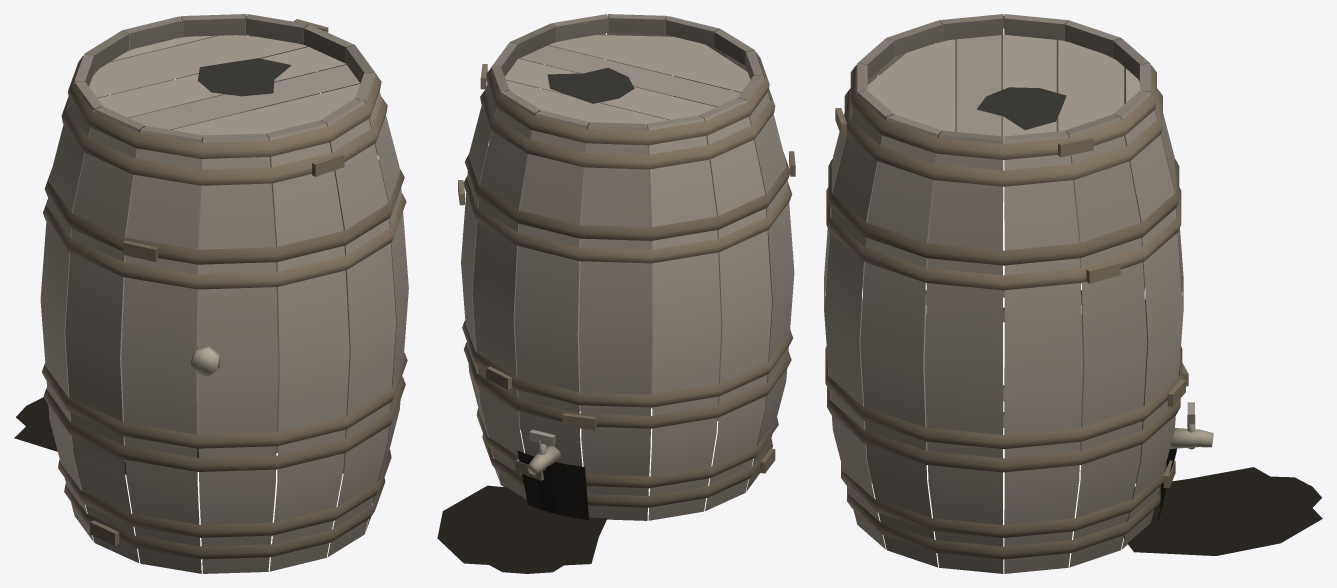
File: prop_barrel_tapped.glb
3 views of the same model, side by side, from view 1: azimuth 30°, elevation 25°; view 2: azimuth 150°, elevation 25°; view 3: azimuth 270°, elevation 25° (orthographic). The views are drawn at different scales.
Parts seen in each view (by area): view 1: BarrelTappedSoft, BarrelTapped; view 2: BarrelTappedSoft, BarrelTapped; view 3: BarrelTappedSoft, BarrelTapped.
Boxes of the visible parts, x1=… form: BarrelTappedSoft: x1=40, y1=14, x2=408, y2=573; BarrelTapped: x1=14, y1=14, x2=374, y2=545; BarrelTappedSoft: x1=461, y1=15, x2=794, y2=520; BarrelTapped: x1=437, y1=14, x2=795, y2=573; BarrelTappedSoft: x1=824, y1=15, x2=1213, y2=573; BarrelTapped: x1=835, y1=14, x2=1322, y2=555.
Size of the model in its own units: 0.694 by 0.9 by 0.9397.
